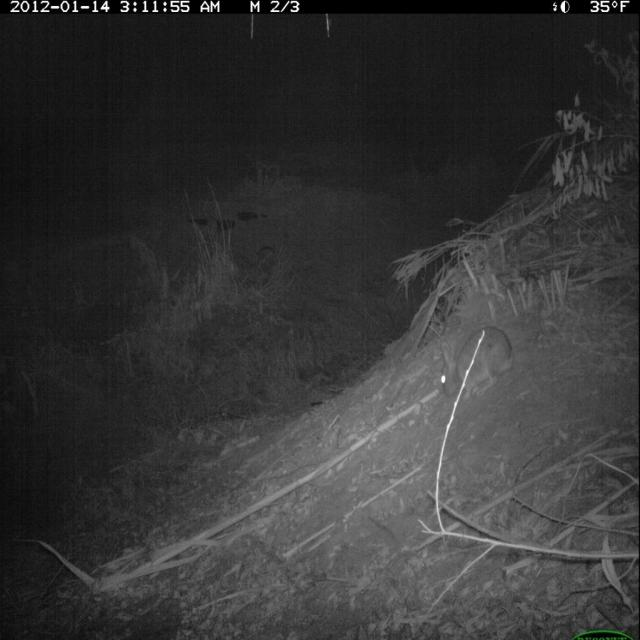rabbit: (437, 323, 517, 411)
